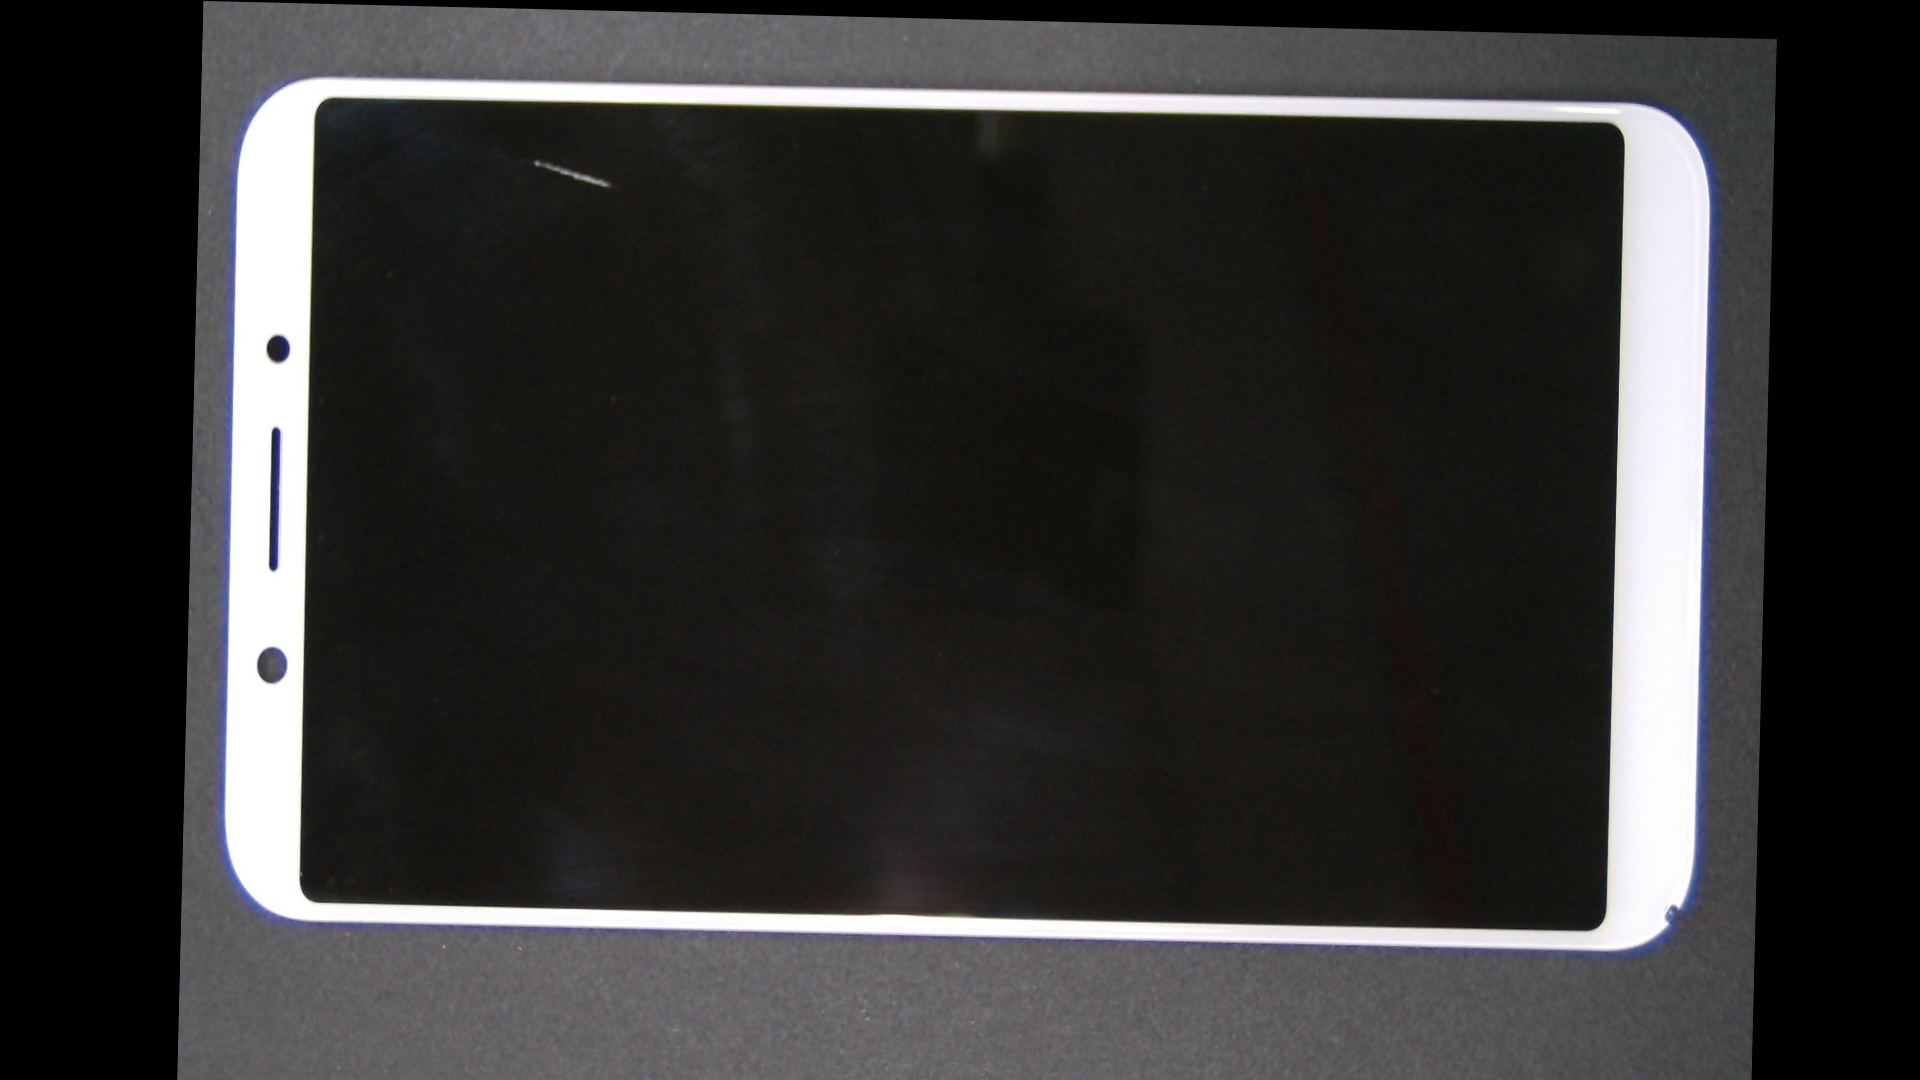oil: (367, 79, 708, 237)
